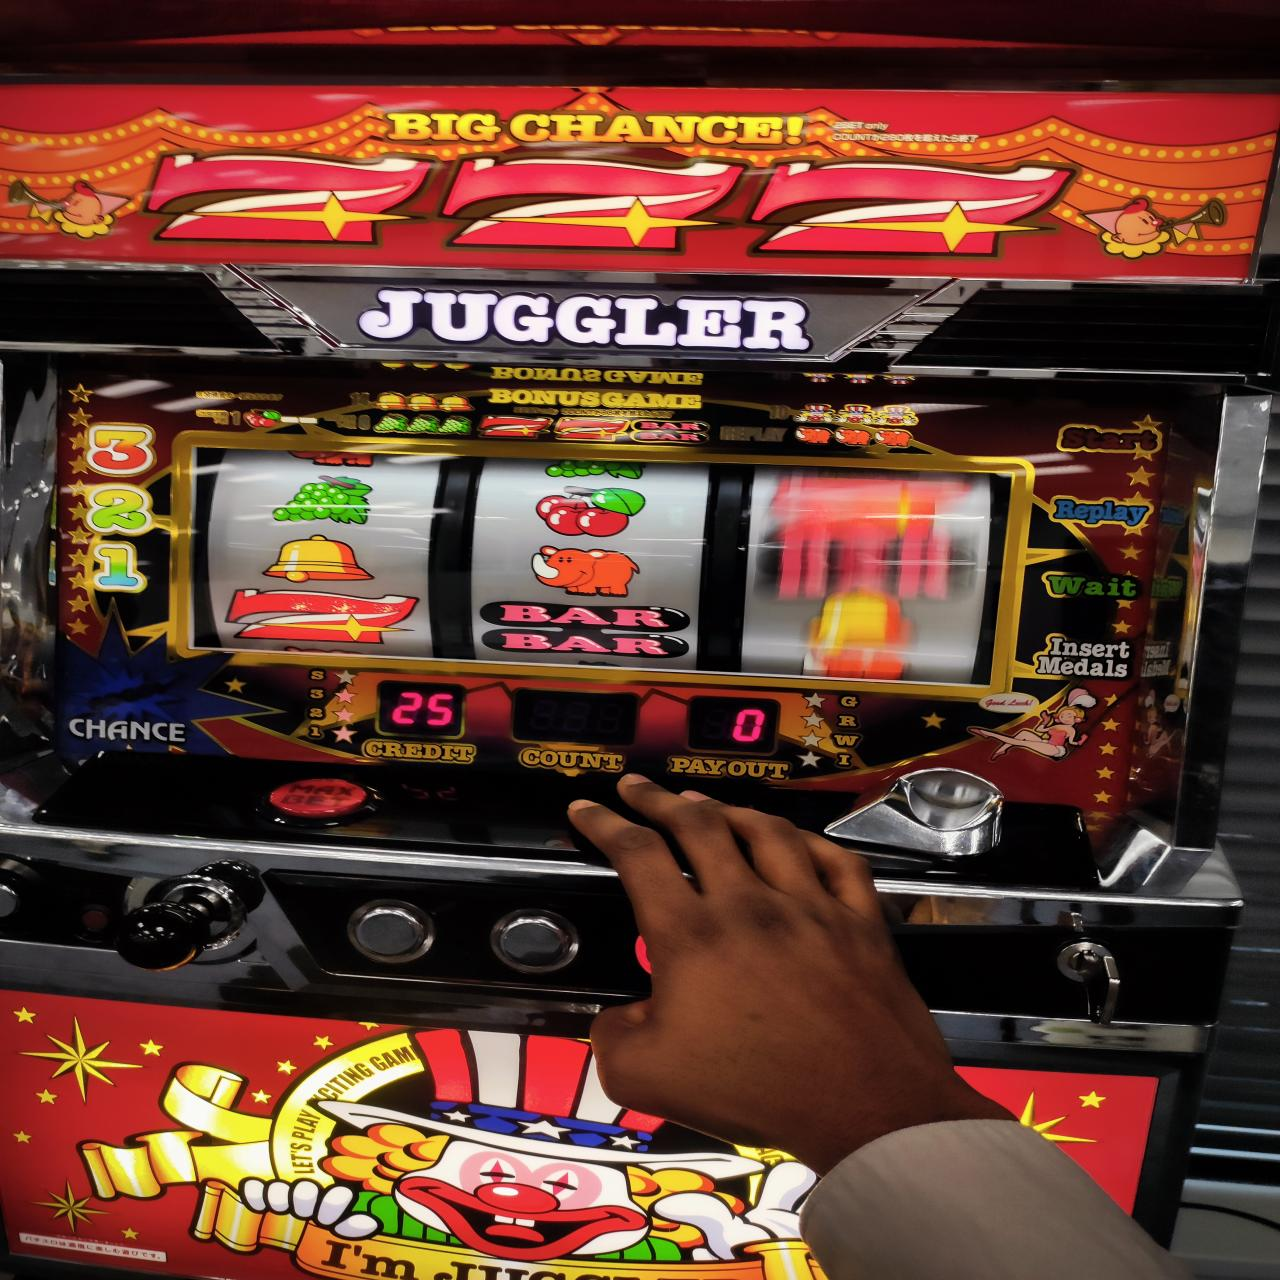7: (226, 591, 418, 642)
8: (531, 543, 646, 598)
bar: (476, 598, 688, 660)
bell: (256, 532, 374, 585)
cherry: (531, 482, 649, 533)
grape: (264, 471, 373, 525)
rhino: (182, 434, 1003, 687)
